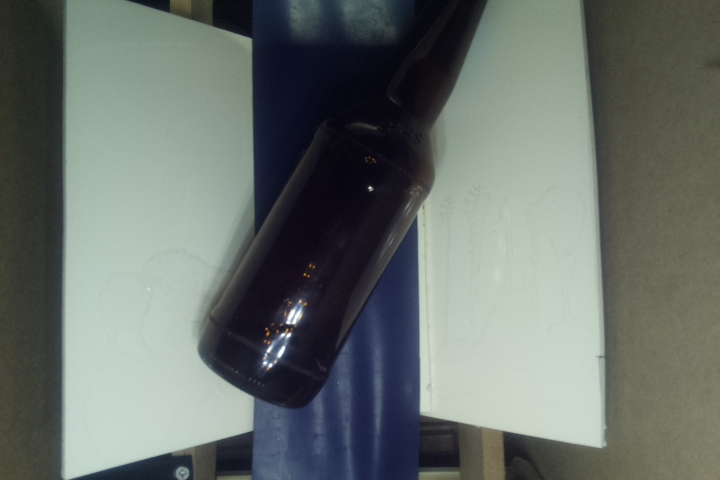makju: (193, 1, 493, 409)
